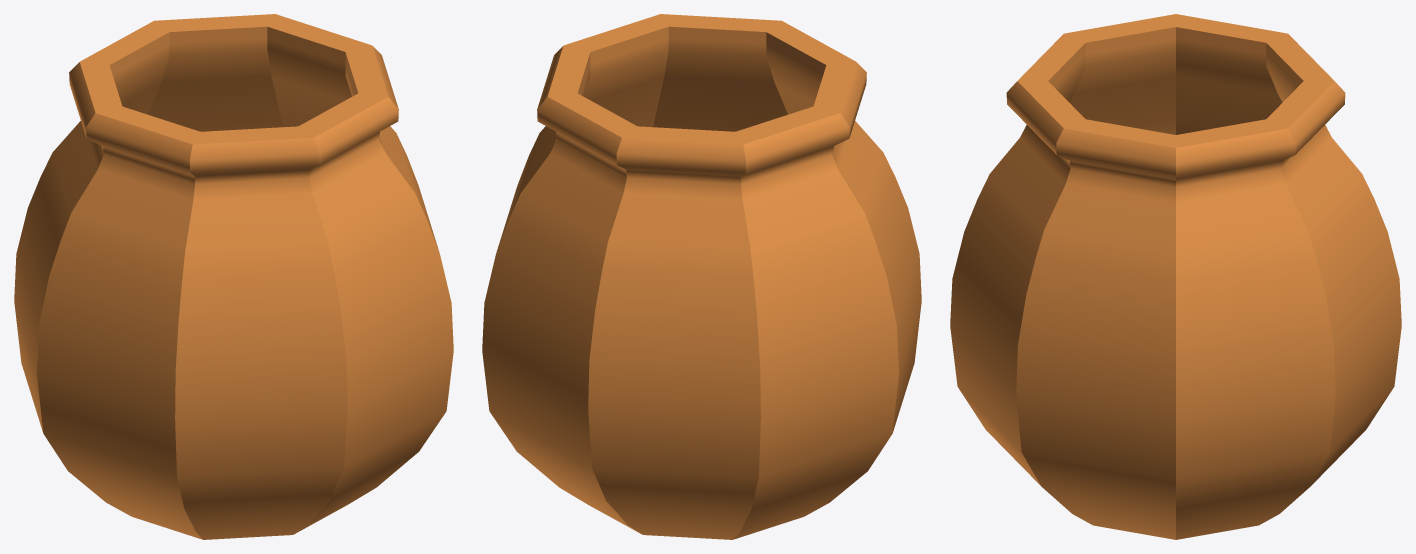
The model's file is SM_ClayPot_001.fbx.
3 views of the same model, side by side, from view 1: azimuth 30°, elevation 25°; view 2: azimuth 150°, elevation 25°; view 3: azimuth 270°, elevation 25° (orthographic).
Parts seen in each view (by area): view 1: ClayPot_02; view 2: ClayPot_02; view 3: ClayPot_02.
Part boxes in pixels (<box>): ClayPot_02: <box>14,14,453,539</box>; ClayPot_02: <box>482,14,921,539</box>; ClayPot_02: <box>950,14,1401,539</box>.
Bounding box in the file's own units: 92 × 92 × 92.
